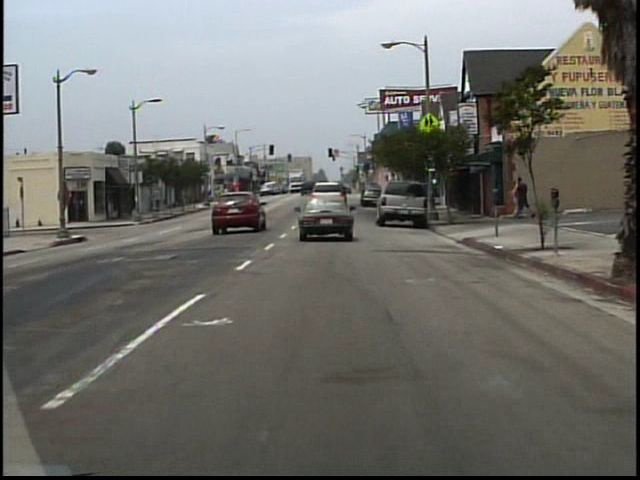person: (509, 181, 522, 219), (517, 177, 529, 218), (155, 190, 165, 214)
